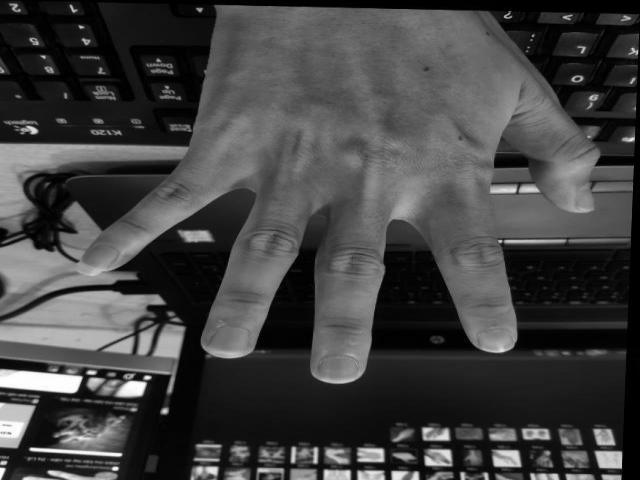not-gloved: (78, 6, 598, 385)
